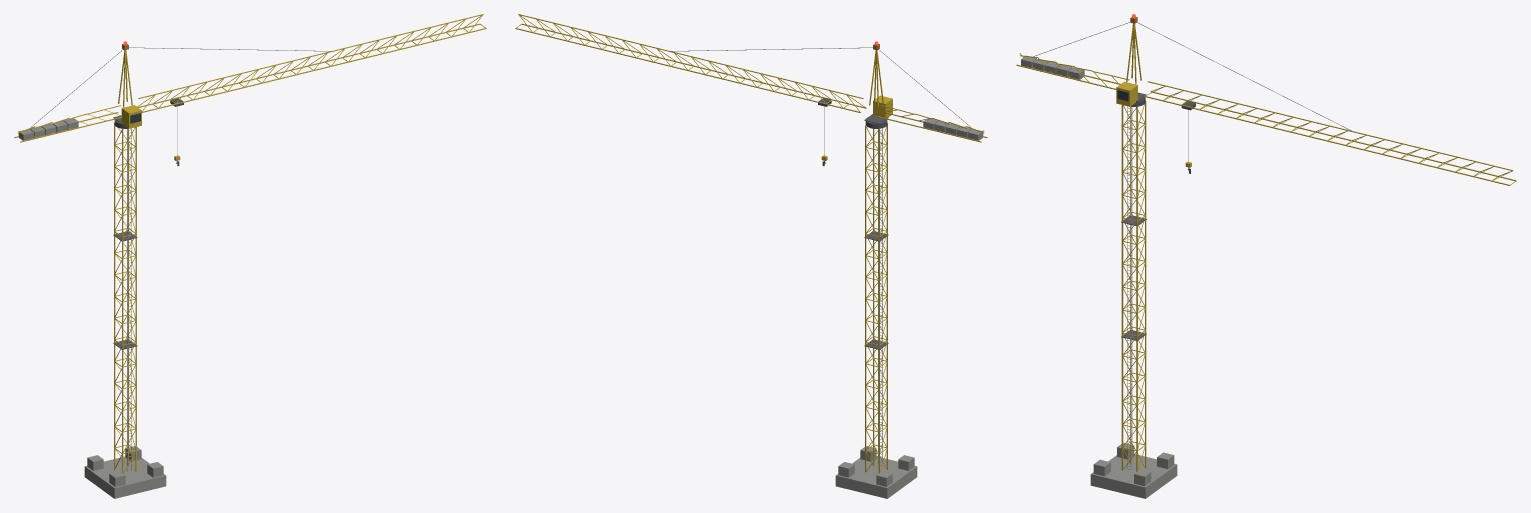
File: tower_crane_big.glb
3 renders of one model, left to right at view 1: azimuth 30°, elevation 25°; view 2: azimuth 150°, elevation 25°; view 3: azimuth 330°, elevation 25°, orthographic. The views are drawn at different scales.
Parts seen in each view (by area): view 1: mast_mesh, jib_mesh; view 2: mast_mesh, jib_mesh; view 3: mast_mesh, jib_mesh.
Part boxes in pixels (x1,y1,x2,y2): mast_mesh: [84, 115, 166, 498]; jib_mesh: [14, 14, 486, 142]; mast_mesh: [835, 114, 917, 498]; jib_mesh: [515, 14, 987, 142]; mast_mesh: [1090, 92, 1177, 498]; jib_mesh: [1016, 14, 1516, 185].
Size of what is drawn, in the model's own units: 54.04 by 48.8 by 6.
